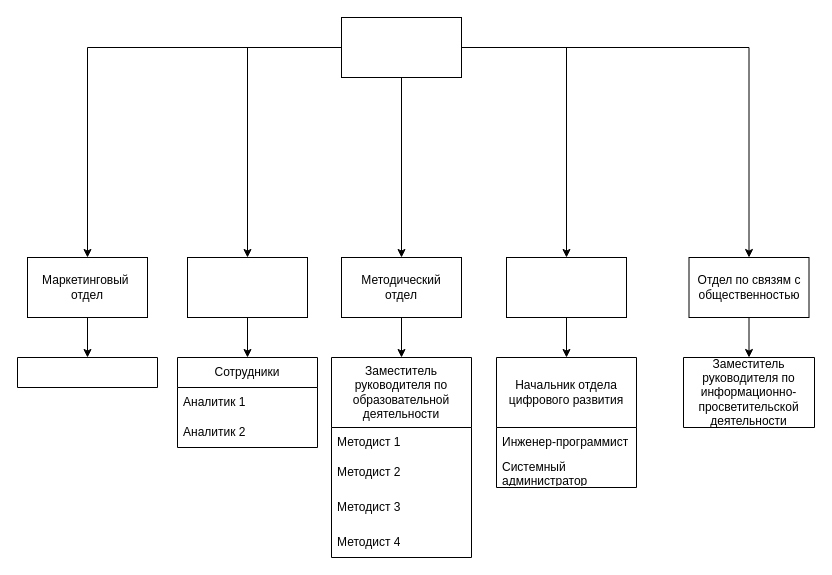
The diagram is 832 pixels wide and 575 high, and some of its shapes have lost their labels. The centre of each missing label's shape, as x and y in pixels:
"Аналитический отдел" goes at point 247,287.
"Маркетолог" goes at point 87,372.
"Отдел цифрового развития" goes at point 566,287.
"Руководство" goes at point 401,47.
